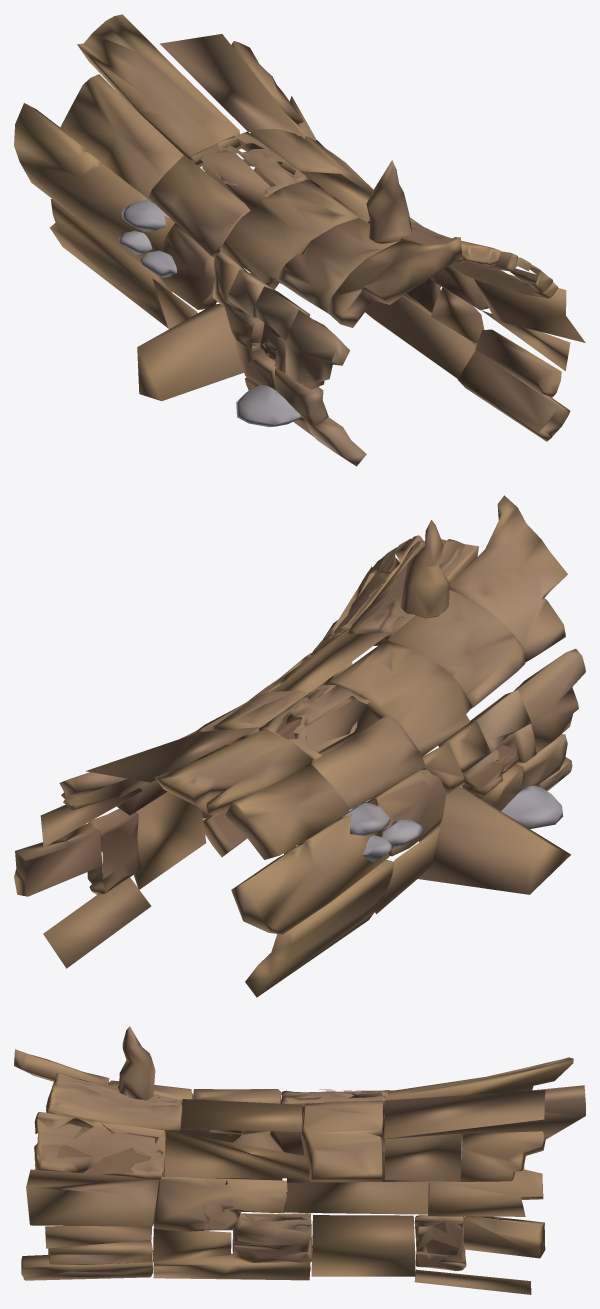
3 renders of one model, top to bottom at view 1: azimuth 30°, elevation 25°; view 2: azimuth 150°, elevation 25°; view 3: azimuth 270°, elevation 25°, orthographic. The views are drawn at different scales.
Visible parts, largest first — view 1: Wood, Shrooms; view 2: Wood, Shrooms; view 3: Wood.
Boxes of the visible parts, bbox=[...] form: Wood: bbox=[14, 14, 585, 466]; Shrooms: bbox=[119, 199, 301, 427]; Wood: bbox=[14, 495, 585, 997]; Shrooms: bbox=[341, 785, 563, 861]; Wood: bbox=[14, 1026, 585, 1294].
Size of the model in its own units: 133 by 105 by 239.
